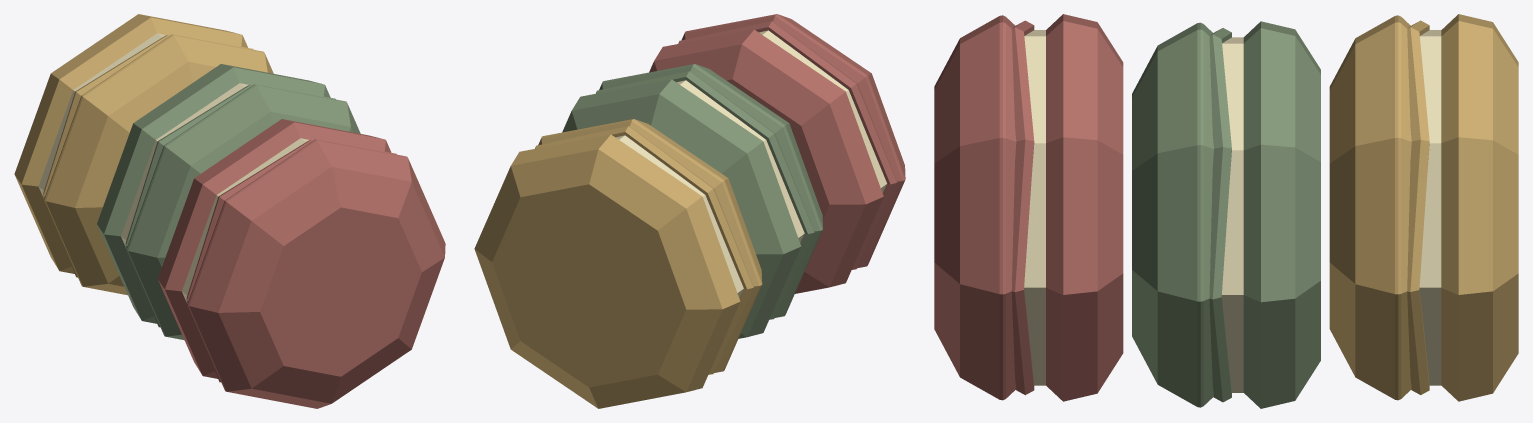
Rendered from macarons.glb.
3 renders of one model, left to right at view 1: azimuth 30°, elevation 25°; view 2: azimuth 150°, elevation 25°; view 3: azimuth 270°, elevation 25°, orthographic. The views are drawn at different scales.
Parts seen in each view (by area): view 1: macarons; view 2: macarons; view 3: macarons.
Part boxes in pixels (x1,y1,x2,y2): macarons: [14, 14, 445, 408]; macarons: [474, 14, 905, 408]; macarons: [934, 14, 1518, 408].
Bounding box in the file's own units: 0.05 × 0.048 × 0.068.
